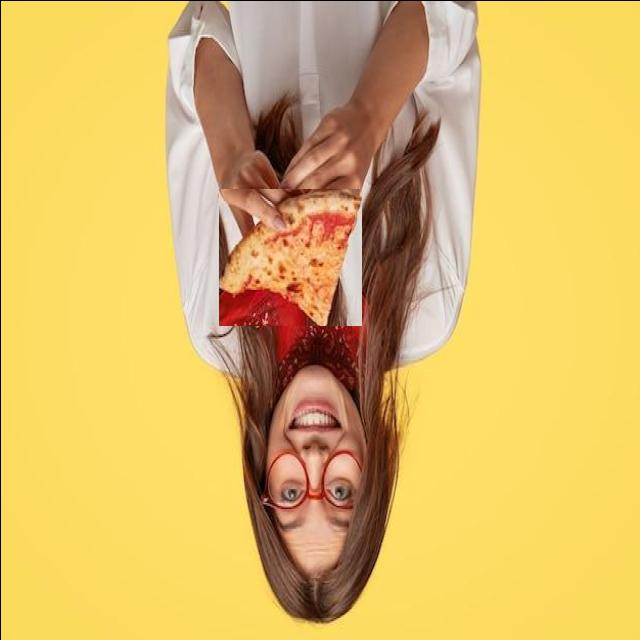pizza: (218, 186, 361, 324)
